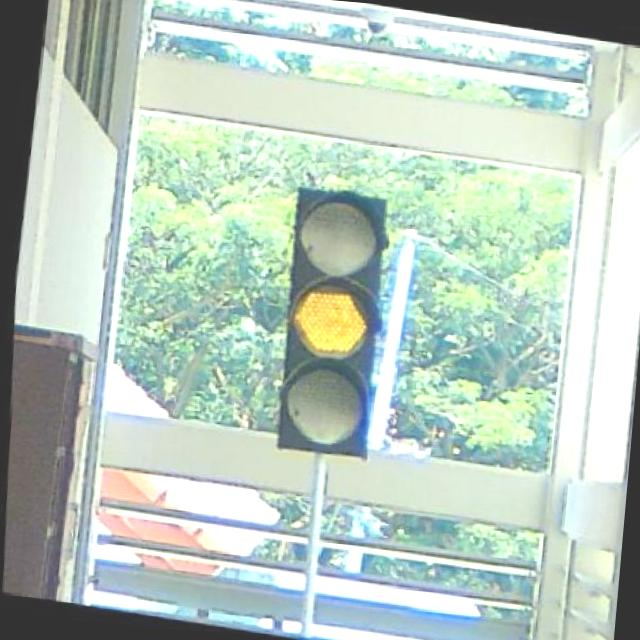yellow_light: (256, 183, 404, 462)
